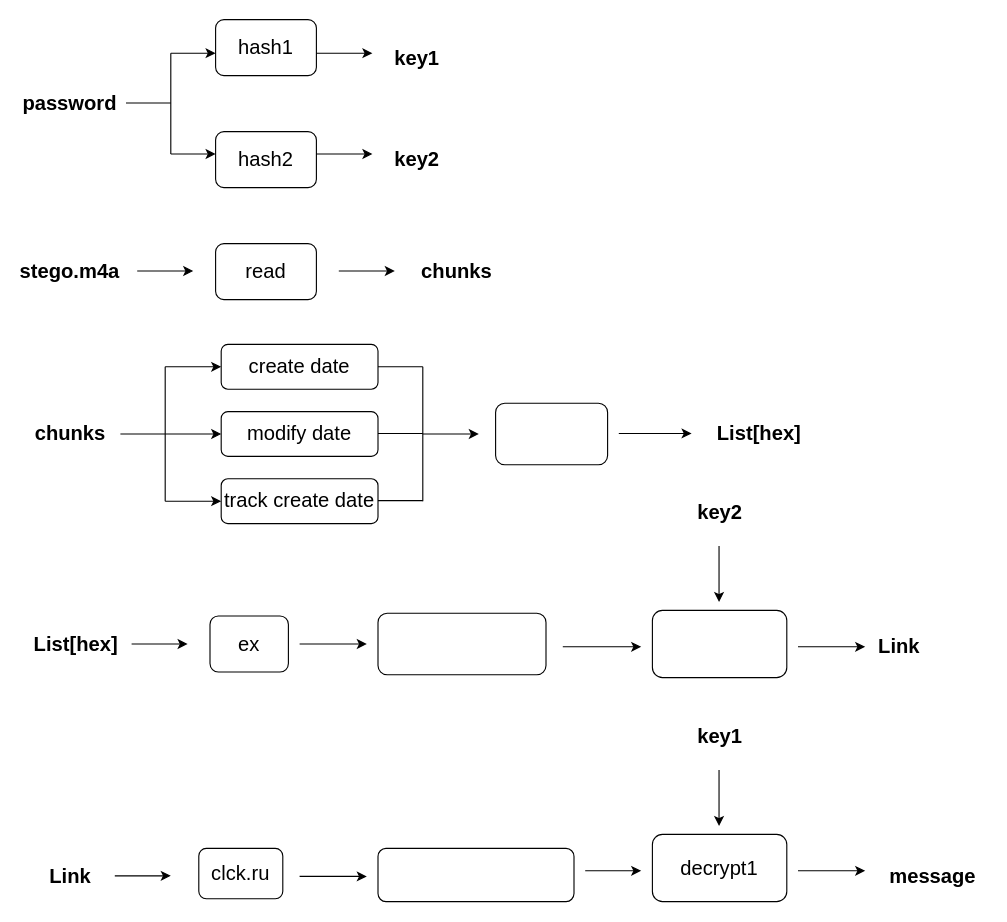
Image size: 1007x922. Some labels were removed from this diagram. The centre of each missing label's shape, as x and y in pixels:
decrypt2: point (719, 643)
encrypted link: point (461, 643)
encrypted message: point (475, 874)
nibble_ret: point (551, 433)
